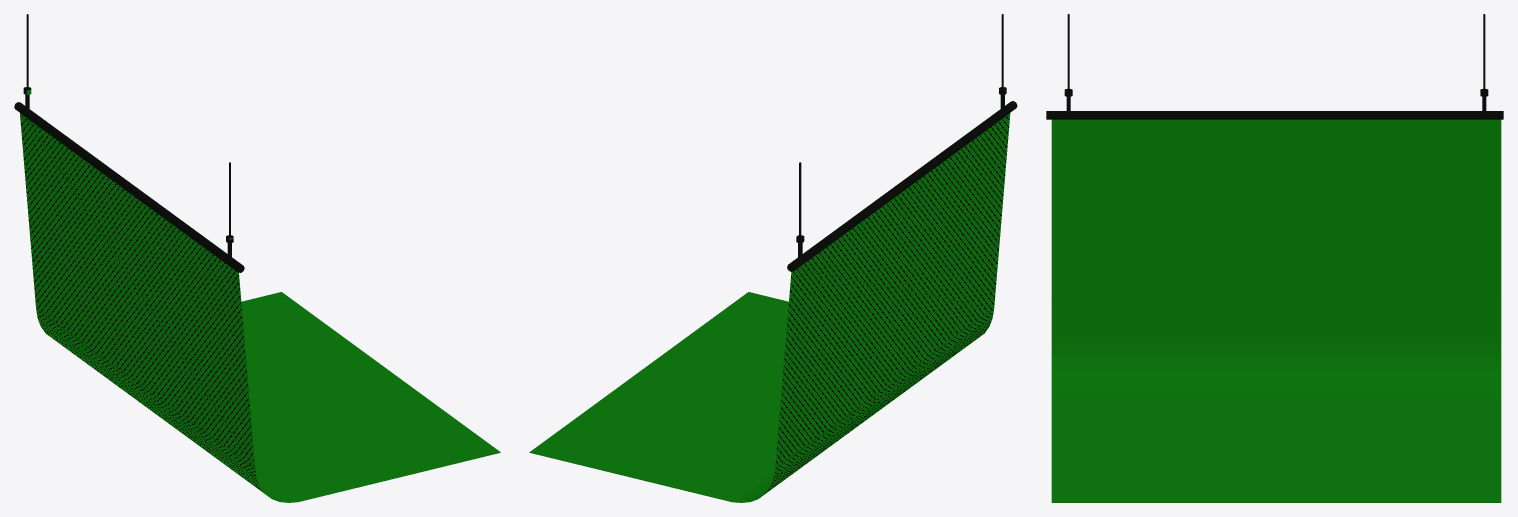
The model's file is greenscreen.glb.
3 views of the same model, side by side, from view 1: azimuth 30°, elevation 25°; view 2: azimuth 150°, elevation 25°; view 3: azimuth 270°, elevation 25° (orthographic). The views are drawn at different scales.
Visible parts, largest first — view 1: Screen 2; view 2: Screen 2; view 3: Screen 2.
Part boxes in pixels (<box>): Screen 2: <box>14,14,500,502</box>; Screen 2: <box>529,14,1017,502</box>; Screen 2: <box>1046,14,1503,502</box>.
Size of the model in its own units: 5.6 by 7 by 8.12.
Materials: 1 (1 with a texture image).
